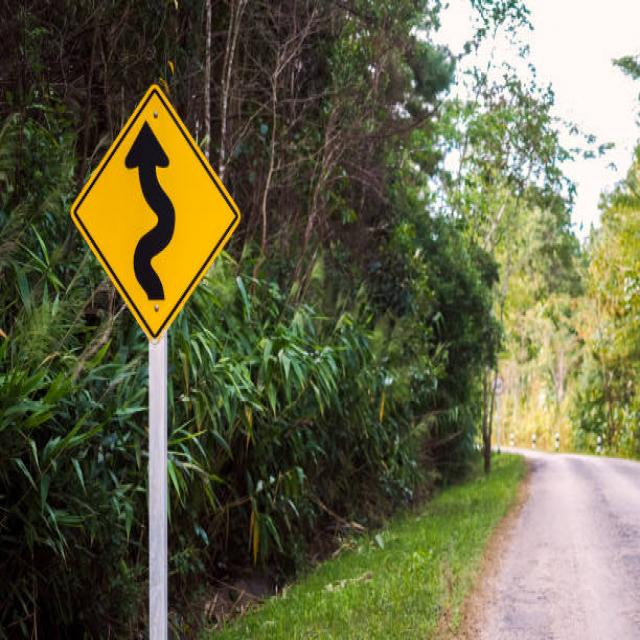left_sharp_curve: (68, 79, 245, 337)
